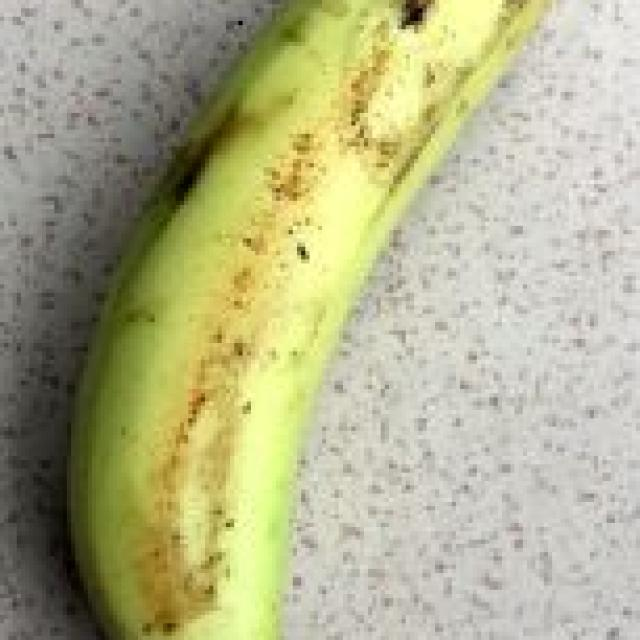Good_Banana-2-3 days: (71, 0, 548, 640)
